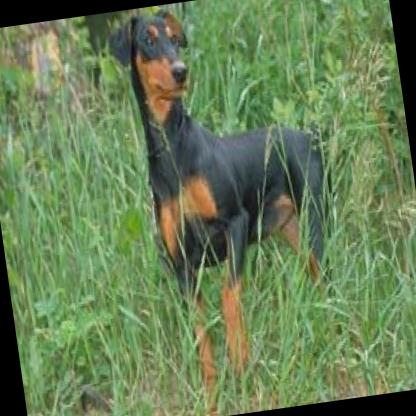Doberman: (94, 0, 368, 416)
